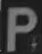Parking: (5, 2, 35, 49)
